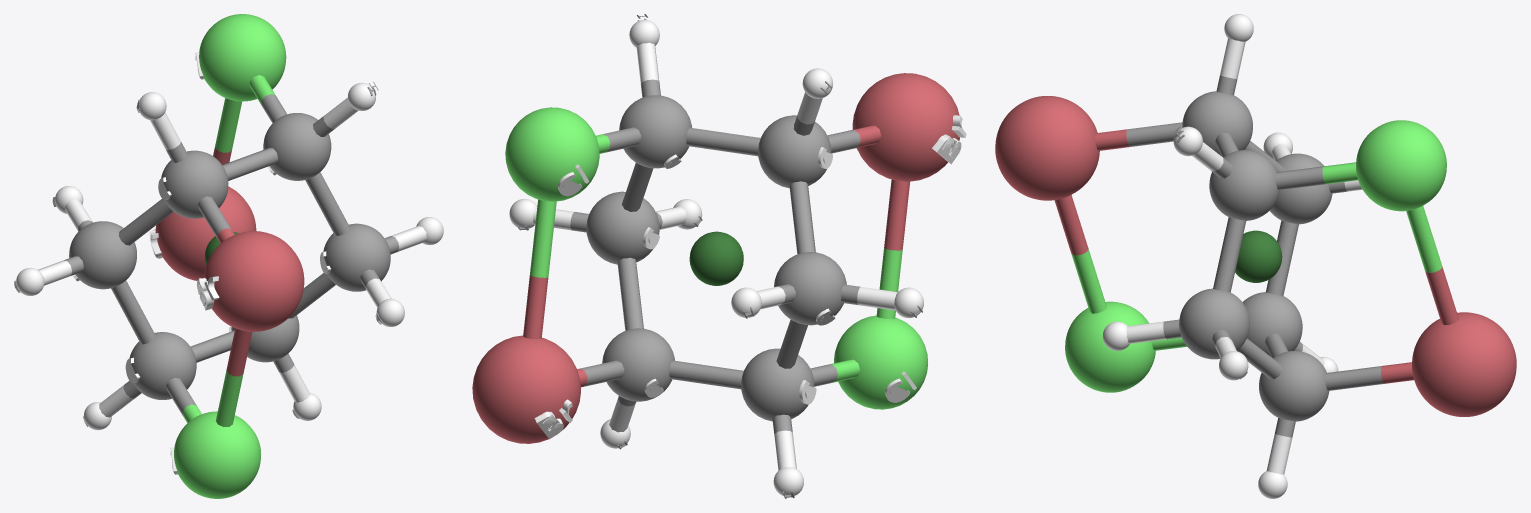
File: cyclohexane-Br2Cl2_new.fbx
3 views of the same model, side by side, from view 1: azimuth 30°, elevation 25°; view 2: azimuth 150°, elevation 25°; view 3: azimuth 270°, elevation 25° (orthographic). The views are drawn at different scales.
Parts seen in each view (by area): view 1: cyclohexane-Br2Cl2; view 2: cyclohexane-Br2Cl2, Sphere; view 3: cyclohexane-Br2Cl2, Sphere.
Boxes of the visible parts, x1,y1,x2,y2 form: cyclohexane-Br2Cl2: (14,14,443,498); cyclohexane-Br2Cl2: (472,14,966,498); Sphere: (689,231,743,285); cyclohexane-Br2Cl2: (995,14,1516,498); Sphere: (1235,230,1282,282).
Size of the model in its own units: 527 by 474 by 566.
